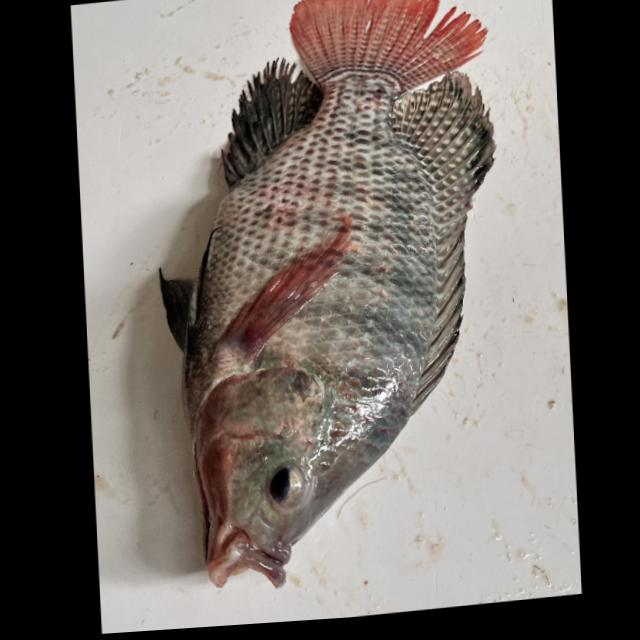Tilapia: (145, 0, 515, 594)
